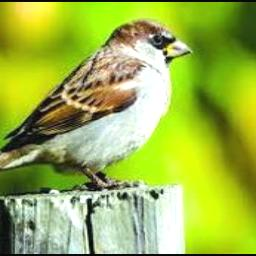Sparrow: (0, 20, 192, 197)
